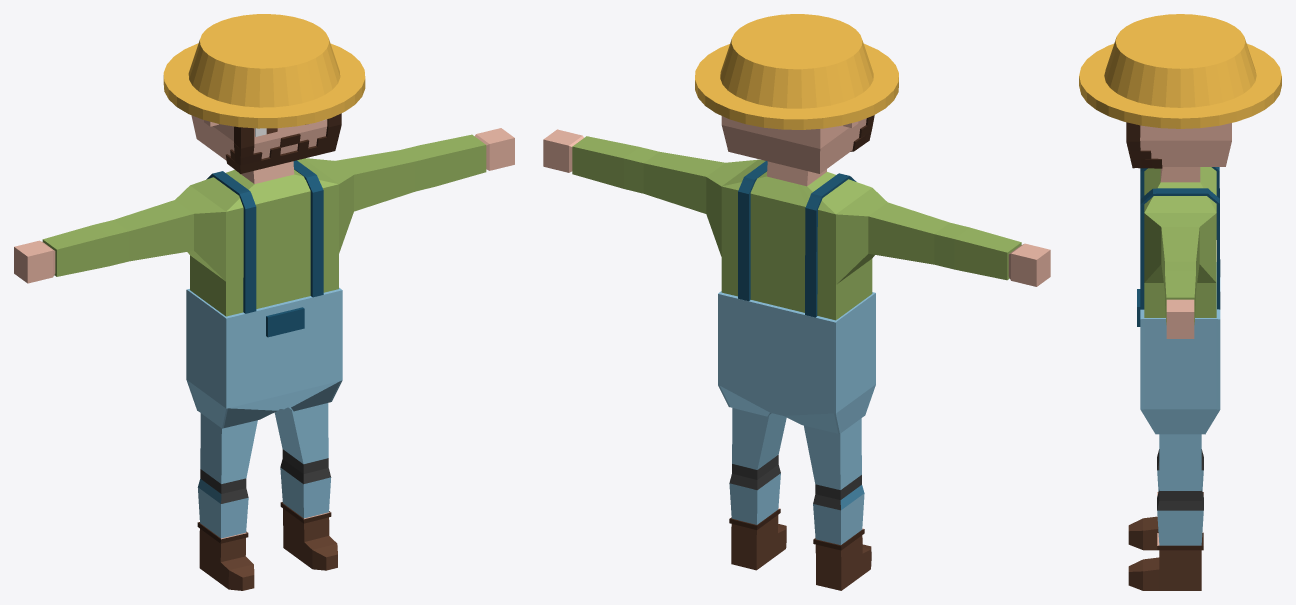
Rendered from RandyAlpha.fbx.
3 views of the same model, side by side, from view 1: azimuth 30°, elevation 25°; view 2: azimuth 150°, elevation 25°; view 3: azimuth 270°, elevation 25° (orthographic).
Visible parts, largest first — view 1: FinalMesh.001; view 2: FinalMesh.001; view 3: FinalMesh.001.
Part boxes in pixels (left/top/right/bottom): FinalMesh.001: left=14, top=14, right=514, bottom=590; FinalMesh.001: left=543, top=14, right=1050, bottom=590; FinalMesh.001: left=1079, top=14, right=1281, bottom=590.
Bounding box in the file's own units: 3.12 × 1.12 × 3.19.
